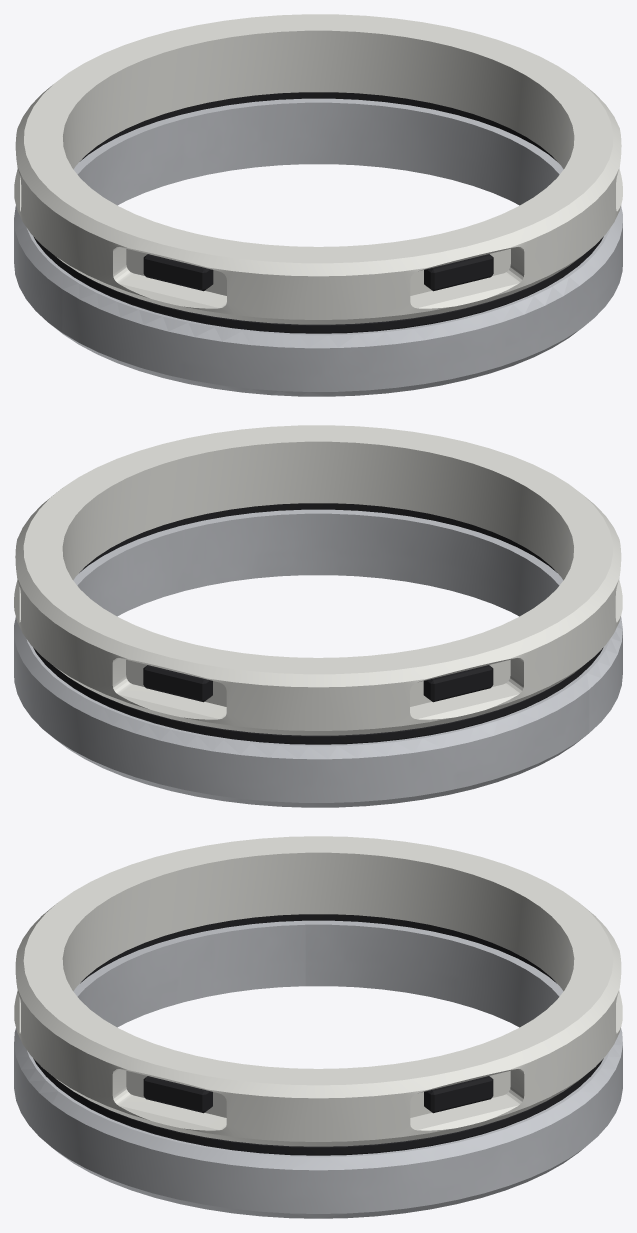
File: ax_struct_06_stack_decoupler_xs.glb
3 views of the same model, one above another, from view 1: azimuth 30°, elevation 25°; view 2: azimuth 150°, elevation 25°; view 3: azimuth 270°, elevation 25° (orthographic).
Parts seen in each view (by area): view 1: decoupler_upper_ring, decoupler_lower_ring, separation_plane, pyro_latches; view 2: decoupler_upper_ring, decoupler_lower_ring, separation_plane, pyro_latches; view 3: decoupler_upper_ring, decoupler_lower_ring, separation_plane, pyro_latches.
Boxes of the visible parts, <box> form: decoupler_upper_ring: <box>14,14,622,324</box>; decoupler_lower_ring: <box>14,98,622,396</box>; separation_plane: <box>33,92,603,333</box>; pyro_latches: <box>143,254,493,291</box>; decoupler_upper_ring: <box>14,425,622,735</box>; decoupler_lower_ring: <box>14,509,622,807</box>; separation_plane: <box>33,503,603,744</box>; pyro_latches: <box>143,665,493,702</box>; decoupler_upper_ring: <box>14,836,622,1146</box>; decoupler_lower_ring: <box>14,920,622,1218</box>; separation_plane: <box>33,914,603,1155</box>; pyro_latches: <box>143,1076,493,1113</box>.
Bounding box in the file's own units: 0.625 × 0.151 × 0.6248.
Materials: 3 (1 with a texture image).
